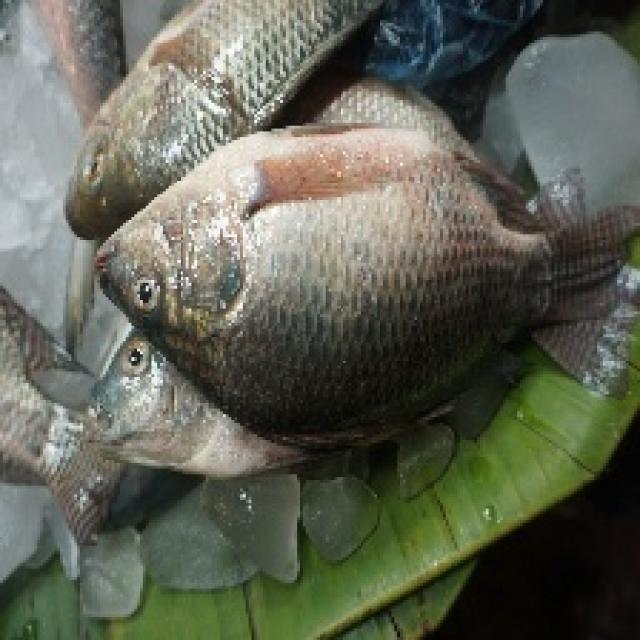Fresh: (99, 130, 492, 430)
